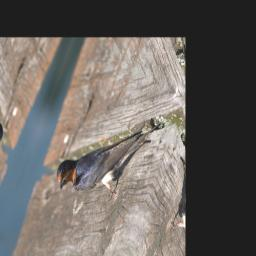Swallow: (51, 83, 163, 223)
